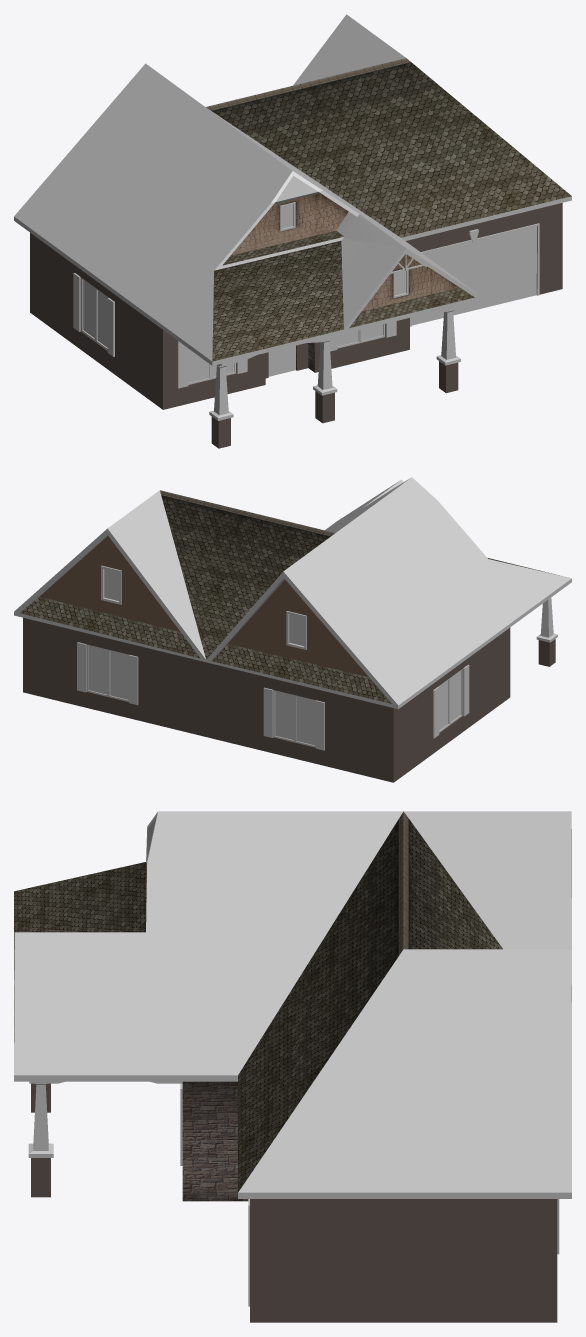
The model's file is House03.fbx.
3 renders of one model, top to bottom at view 1: azimuth 30°, elevation 25°; view 2: azimuth 150°, elevation 25°; view 3: azimuth 270°, elevation 25°, orthographic. The views are drawn at different scales.
Parts seen in each view (by area): view 1: Sphere04_1; view 2: Sphere04_1; view 3: Sphere04_1.
Boxes of the visible parts, x1,y1,x2,y2 form: Sphere04_1: [14, 14, 571, 448]; Sphere04_1: [14, 477, 571, 782]; Sphere04_1: [14, 811, 571, 1322].
Bounding box in the file's own units: 1123 × 527 × 878.
